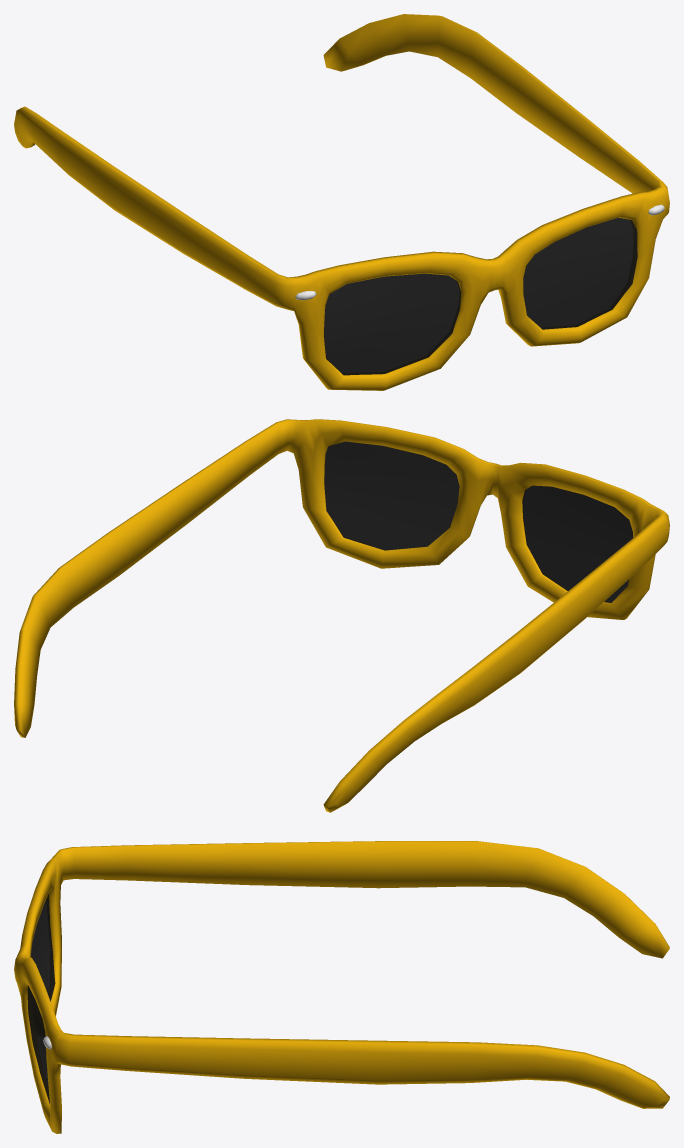
The model's file is SunGlasses.fbx.
3 views of the same model, one above another, from view 1: azimuth 30°, elevation 25°; view 2: azimuth 150°, elevation 25°; view 3: azimuth 270°, elevation 25° (orthographic).
Visible parts, largest first — view 1: SunGlasses; view 2: SunGlasses; view 3: SunGlasses.
Boxes of the visible parts, x1,y1,x2,y2 form: SunGlasses: [14, 14, 669, 390]; SunGlasses: [14, 419, 669, 812]; SunGlasses: [14, 841, 669, 1133].
Size of the model in its own units: 14.5 by 19.4 by 4.46.
